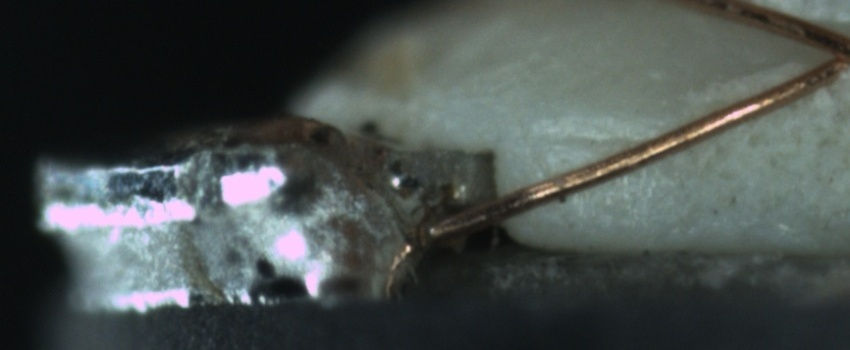CL: (800, 24, 850, 88)
DL: (532, 105, 664, 173)
